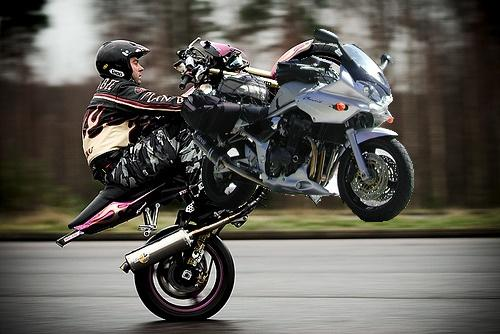tampered: (181, 30, 414, 222)
